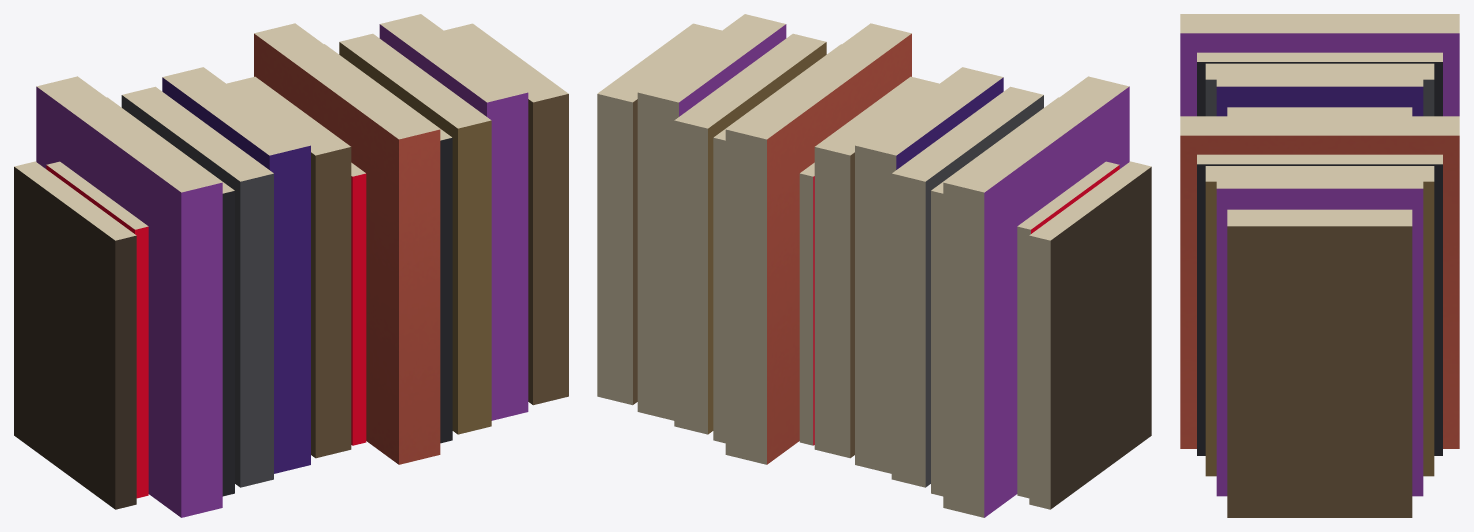
File: Book_8.fbx
The picture shows the model from 3 angles, left to right: view 1: azimuth 30°, elevation 25°; view 2: azimuth 150°, elevation 25°; view 3: azimuth 270°, elevation 25°; orthographic projection. The views are drawn at different scales.
Visible parts, largest first — view 1: pCube2433; view 2: pCube2433; view 3: pCube2433.
Part boxes in pixels (box(x1,y1,x2,y2)): pCube2433: box(14, 14, 568, 517); pCube2433: box(597, 14, 1151, 517); pCube2433: box(1180, 14, 1459, 517).
Size of the model in its own units: 53.69 by 36.61 by 29.58.
